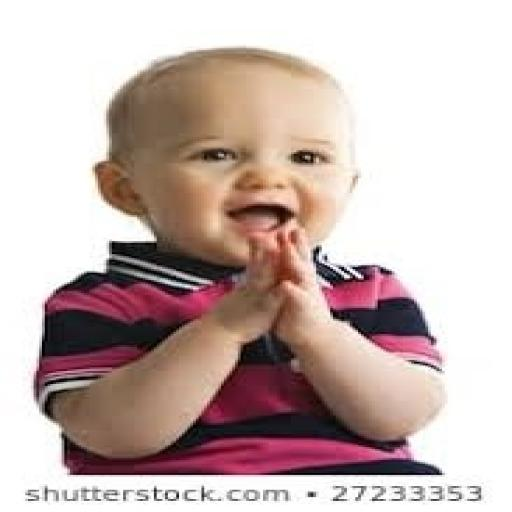clapping: (30, 44, 448, 475)
